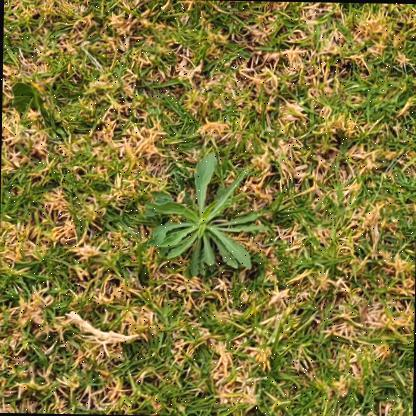Weeds: (142, 149, 270, 277)
